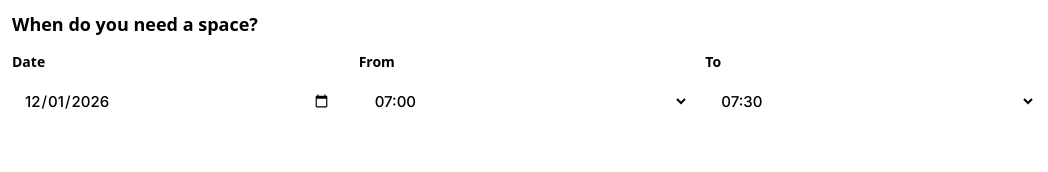
IntervalPicker › offers only ends after the chosen start
Select "12:00" in the dropdown labelled "From": (524,101) [359, 77, 689, 125]
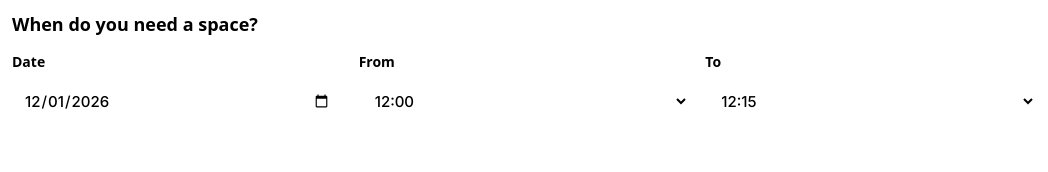
Expected: the dropdown labelled "To" shows "12:15", [705, 77, 1036, 125]
